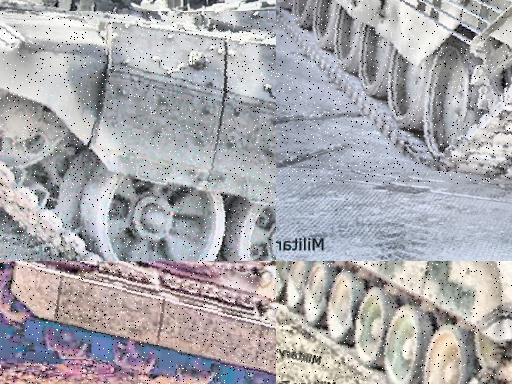tanks: (1, 13, 277, 262), (277, 1, 512, 185), (1, 262, 277, 384), (277, 262, 512, 384)
